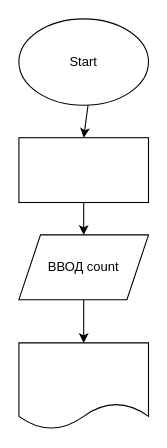
This 167x448 diagram has some shape labels left out. Each missing label, with the box of its shape:
count = 0: (18, 137, 148, 202)
ВЫВОД count: (18, 342, 148, 429)
